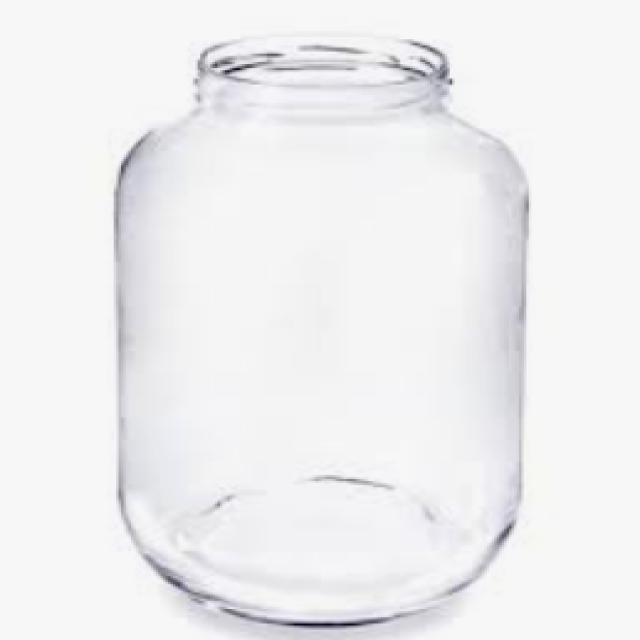ToplesKaca: (109, 29, 531, 628)
